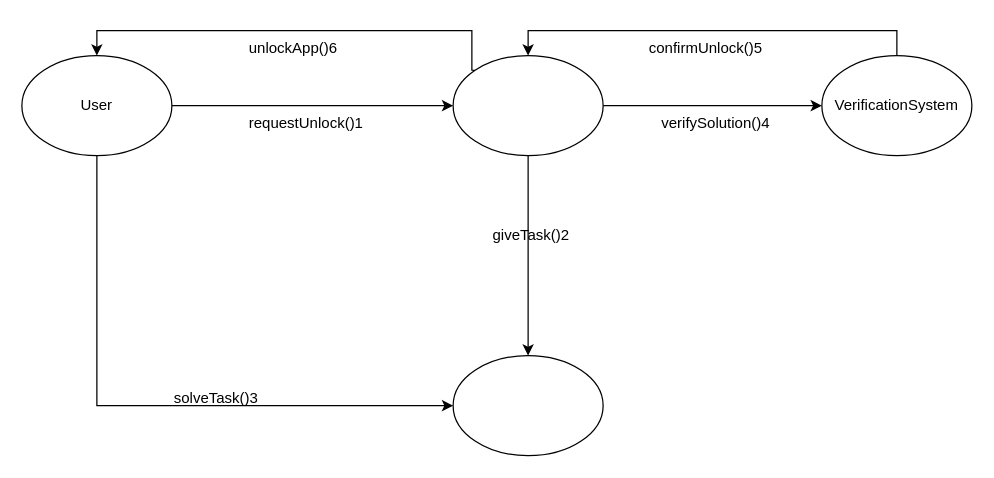
Some shapes in this 994 by 478 pixel diagram are drawn without their labels. The centre of each missing label's shape, as x and y in pixels:
AppBlocker: the point at 527,105
Task: the point at 527,405
